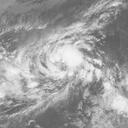cyclone: (43, 37, 98, 83)
